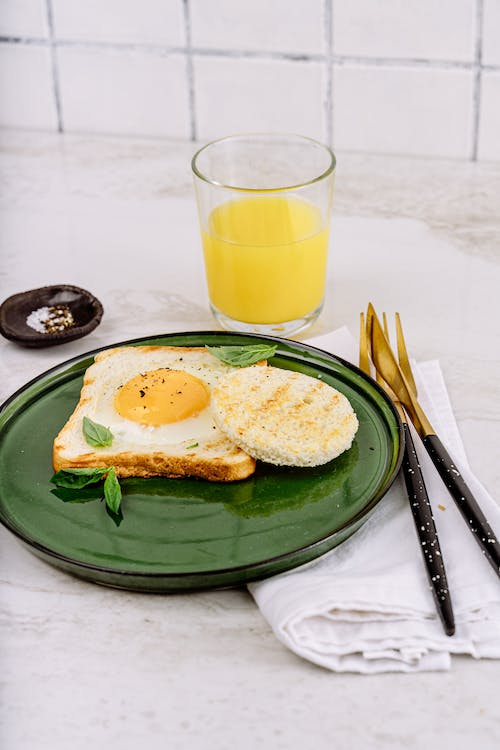knife: (363, 300, 500, 582)
